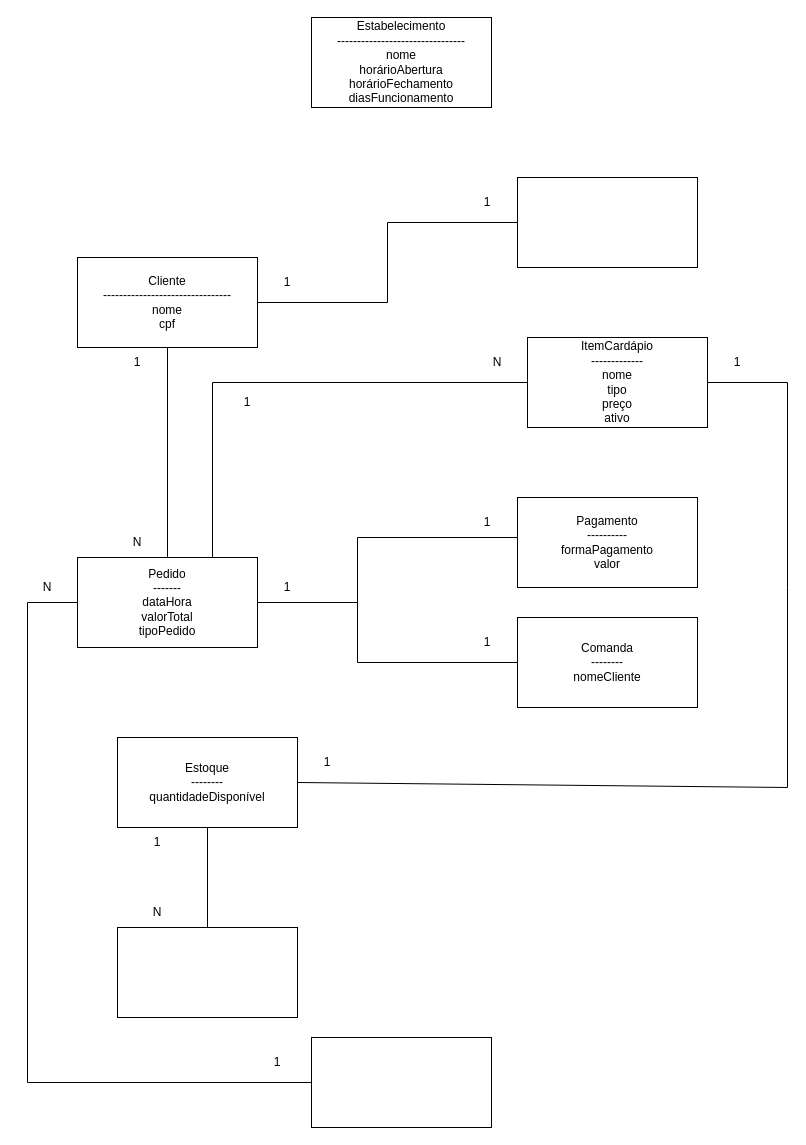
Image size: 806x1145. Some labels were removed from this diagram. Here are the shapes that lost their labels. From the top down, the centre of each, then its label:
At (x=607, y=222): "Fidelidade ---------------- ---------------- quantidadeCompras elegivelPremio".
At (x=207, y=972): "MovimentacaoEstoque ------------------- tipoMovimentacao quantidade dataHora".
At (x=401, y=1082): "Expediente ----------- data valorDeclaradoCaixa valorApurado discrepancia".
